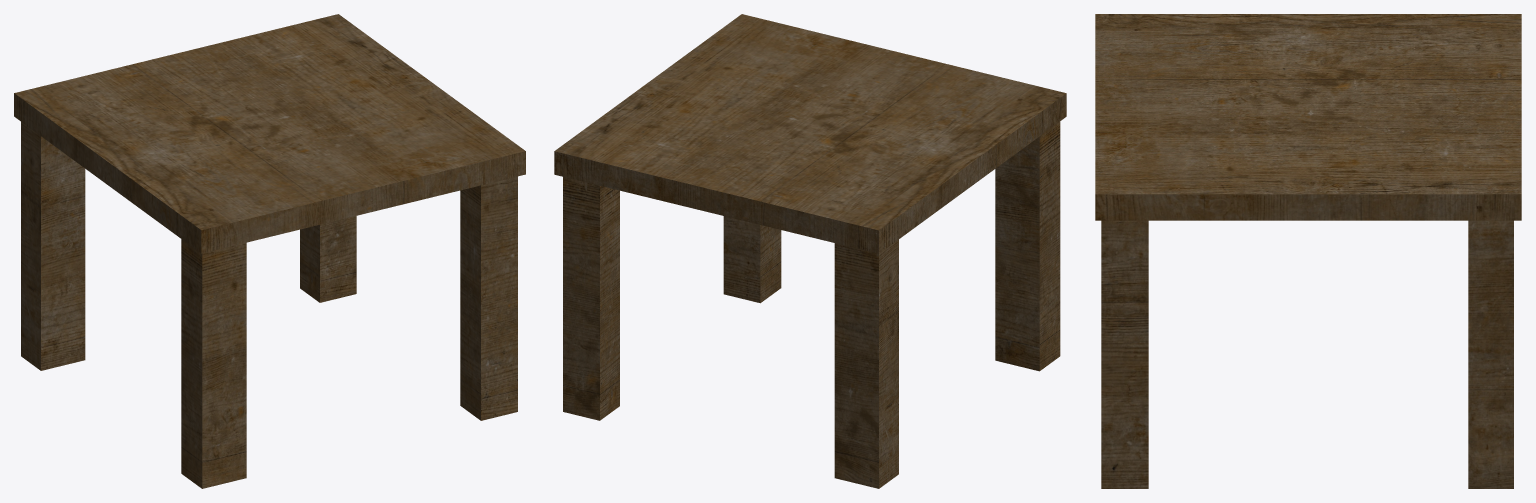
The model's file is SM_Table.fbx.
3 views of the same model, side by side, from view 1: azimuth 30°, elevation 25°; view 2: azimuth 150°, elevation 25°; view 3: azimuth 270°, elevation 25° (orthographic). The views are drawn at different scales.
Parts seen in each view (by area): view 1: SM_Table_Baked; view 2: SM_Table_Baked; view 3: SM_Table_Baked.
Boxes of the visible parts, box(x1,y1,x2,y2) form: SM_Table_Baked: box(14, 14, 525, 488); SM_Table_Baked: box(554, 14, 1066, 488); SM_Table_Baked: box(1095, 14, 1521, 488).
Bounding box in the file's own units: 200 × 154 × 200.
